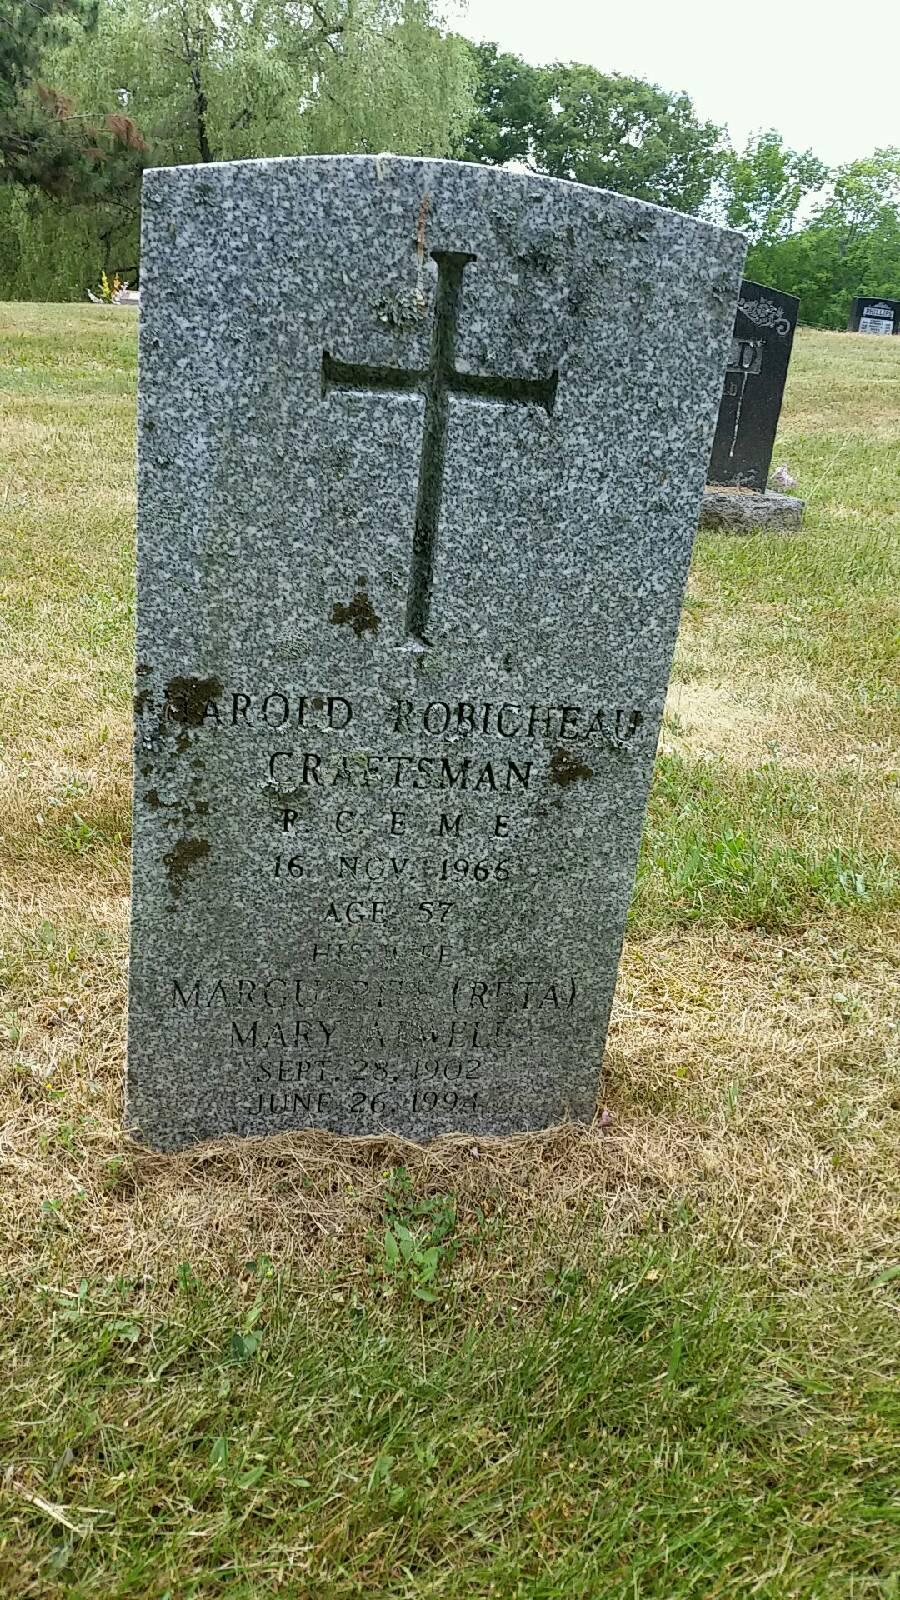upright: (134, 162, 744, 1131)
